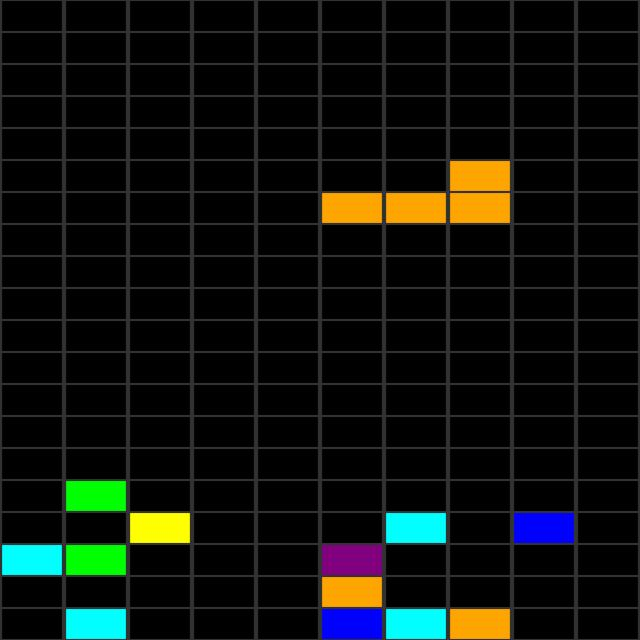Tetrimino_I: (322, 162, 513, 223)
